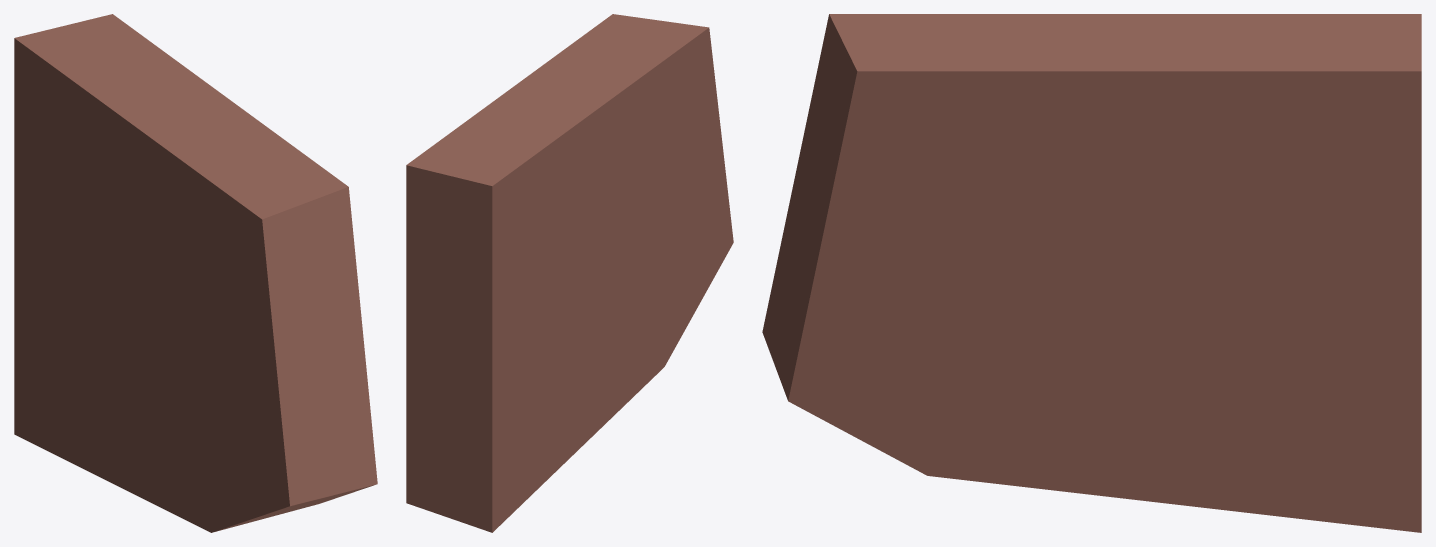
Rendered from T_MurDetruit_6.4.fbx.
3 views of the same model, side by side, from view 1: azimuth 30°, elevation 25°; view 2: azimuth 150°, elevation 25°; view 3: azimuth 270°, elevation 25° (orthographic). The views are drawn at different scales.
Visible parts, largest first — view 1: T_MurDetruit_6.4; view 2: T_MurDetruit_6.4; view 3: T_MurDetruit_6.4.
Boxes of the visible parts, left/top/right/bottom form: T_MurDetruit_6.4: left=14, top=14, right=377, bottom=532; T_MurDetruit_6.4: left=406, top=14, right=733, bottom=532; T_MurDetruit_6.4: left=762, top=14, right=1421, bottom=532.
Size of the model in its own units: 13.48 by 51.84 by 65.39.
